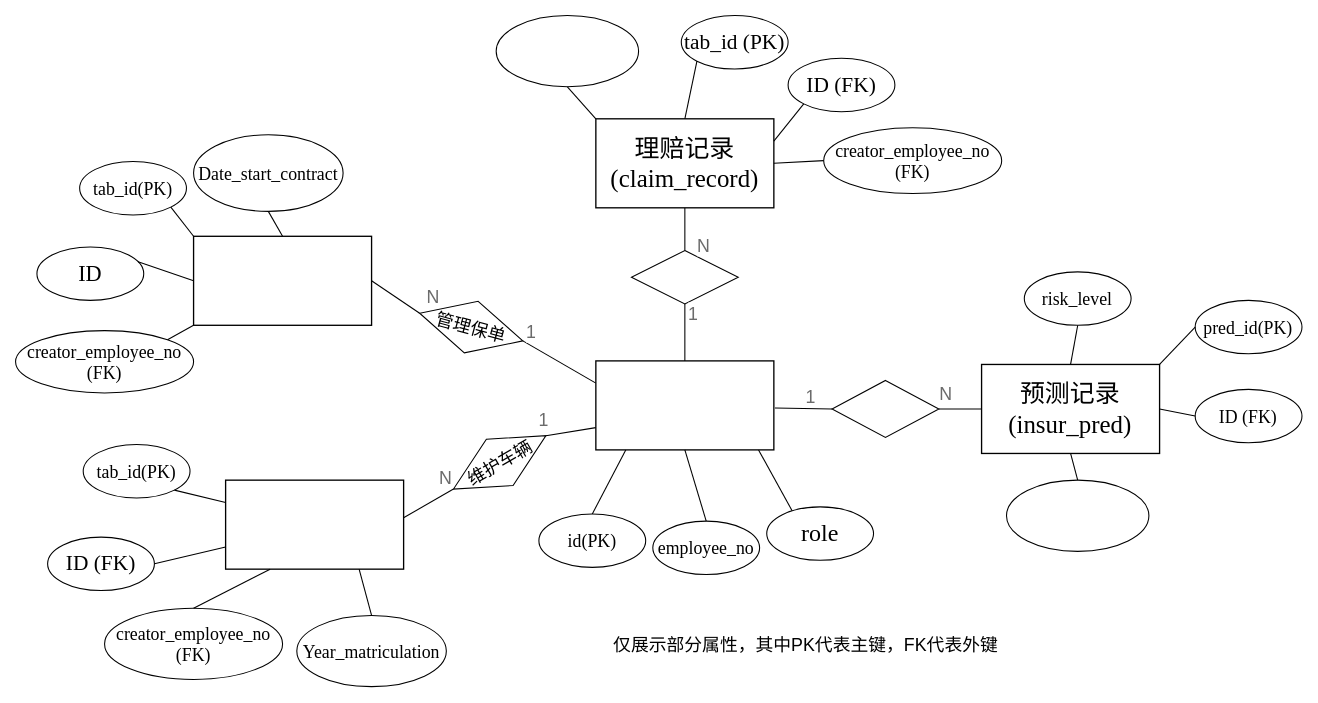
This 1318x703 diagram has some shape labels left out. The centre of each missing label's shape, as x and y in pixels:
claim_probability: the point at 1077,515
Cost_claims_year: the point at 567,51
普通用户 (sys_user): the point at 684,405
查询预测: the point at 885,408
维护理赔: the point at 684,277
车辆信息 (vehicle_info): the point at 314,524
车险保单 (motor_insurance): the point at 282,280
